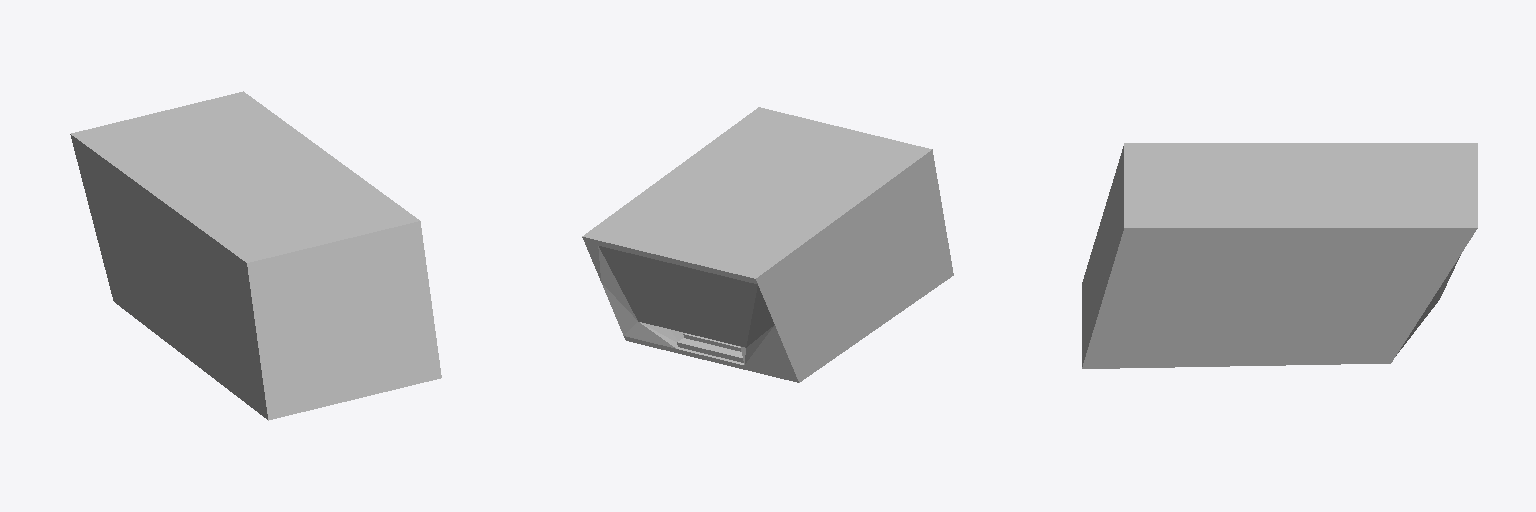
Rendered from hiddenroomsmall.obj.
3 views of the same model, side by side, from view 1: azimuth 30°, elevation 25°; view 2: azimuth 150°, elevation 25°; view 3: azimuth 270°, elevation 25° (orthographic).
Parts seen in each view (by area): view 1: Cube_Cube.003; view 2: Cube_Cube.003; view 3: Cube_Cube.003.
Part boxes in pixels (x1,y1,x2,y2): Cube_Cube.003: (70,91,441,420); Cube_Cube.003: (582,107,953,382); Cube_Cube.003: (1082,143,1477,368).
Size of the model in its own units: 8.64 by 6.74 by 17.09.